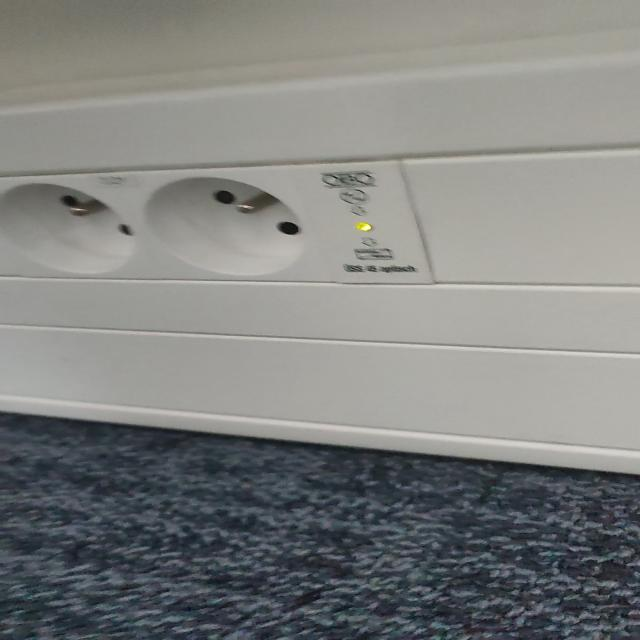house plug: (126, 166, 335, 282), (0, 171, 148, 280)
